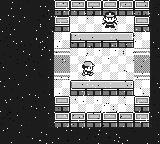main: (82, 62, 95, 75)
no-caminable: (1, 0, 160, 143), (55, 0, 149, 32), (54, 96, 149, 127), (71, 33, 133, 48), (71, 81, 133, 95)
npc: (102, 13, 118, 28)
puerta: (53, 45, 73, 81), (133, 46, 151, 80)
